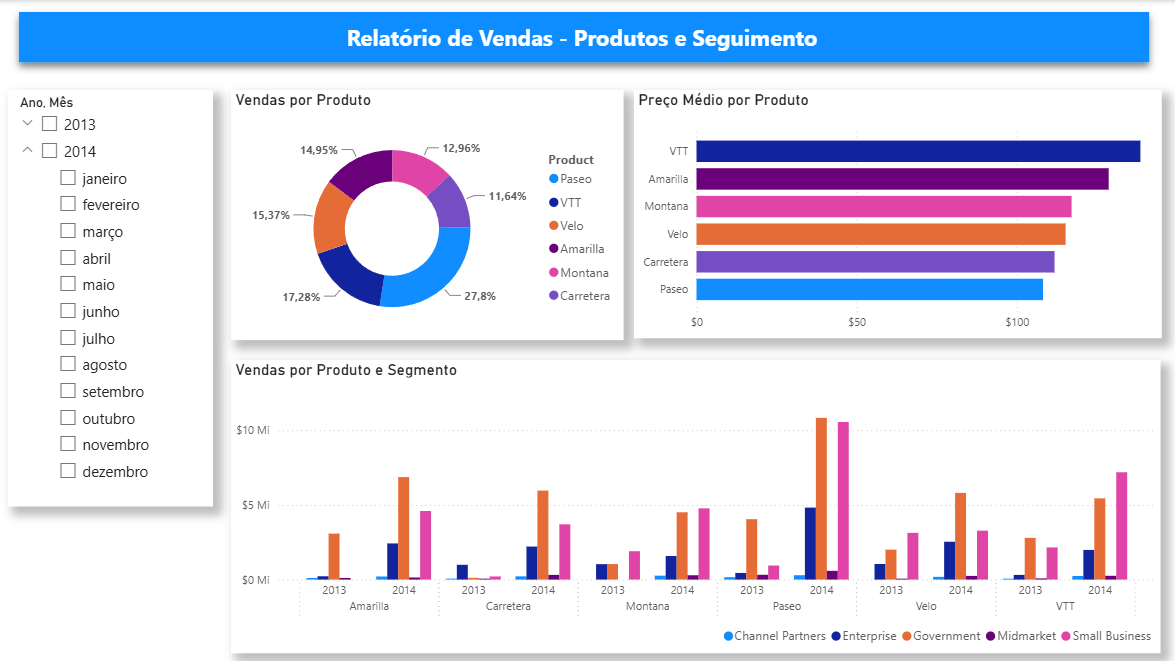

The page's visual inventory and layout, read from the dashboard file:
{"tool":"powerbi","page":{"name":"Produtos","canvas":[1280,720],"ordinal":0},"visuals":[{"type":"donutChart","title":"Vendas por Produto","fields":{"Category":["financials.Product"],"Y":["Sum(financials.Sales)"]},"box":[252.4,98.2,427.1,271.6],"z":0},{"type":"barChart","title":"Preço Médio por Produto","fields":{"Category":["financials.Product"],"Y":["Avg(financials.Sale Price)"]},"box":[691,98.2,573.7,270.3],"z":1000},{"type":"clusteredColumnChart","title":"Vendas por Produto e Segmento","fields":{"Category":["financials.Product","financials.Year"],"Series":["financials.Segment"],"Y":["Sum(financials.Sales)"]},"box":[252.3,391,1011,319.2],"z":2000},{"type":"slicer","fields":{"Values":["financials.Date.Variation.Hierarquia de datas.Ano","financials.Date.Variation.Hierarquia de datas.Mês"]},"box":[10.2,98.2,223.1,452.6],"z":3000},{"type":"shape","box":[9.1,0,1255.3,80.7],"z":4000},{"type":"textbox","box":[139.2,18.2,989.9,46.8],"z":5000}]}

Visuals, with their boxes in screenshot pixels (x1, y1, x2, y2), scaled from the page's 1280x720 canvas onto the 1175x661 screenshot:
"Vendas por Produto" donutChart: 232:90:624:339
"Preço Médio por Produto" barChart: 634:90:1161:338
"Vendas por Produto e Segmento" clusteredColumnChart: 232:359:1160:652
slicer - financials.Date.Variation.Hierarquia de datas.Ano x financials.Date.Variation.Hierarquia de datas.Mês: 9:90:214:506
shape: 8:0:1161:74
textbox: 128:17:1036:60
